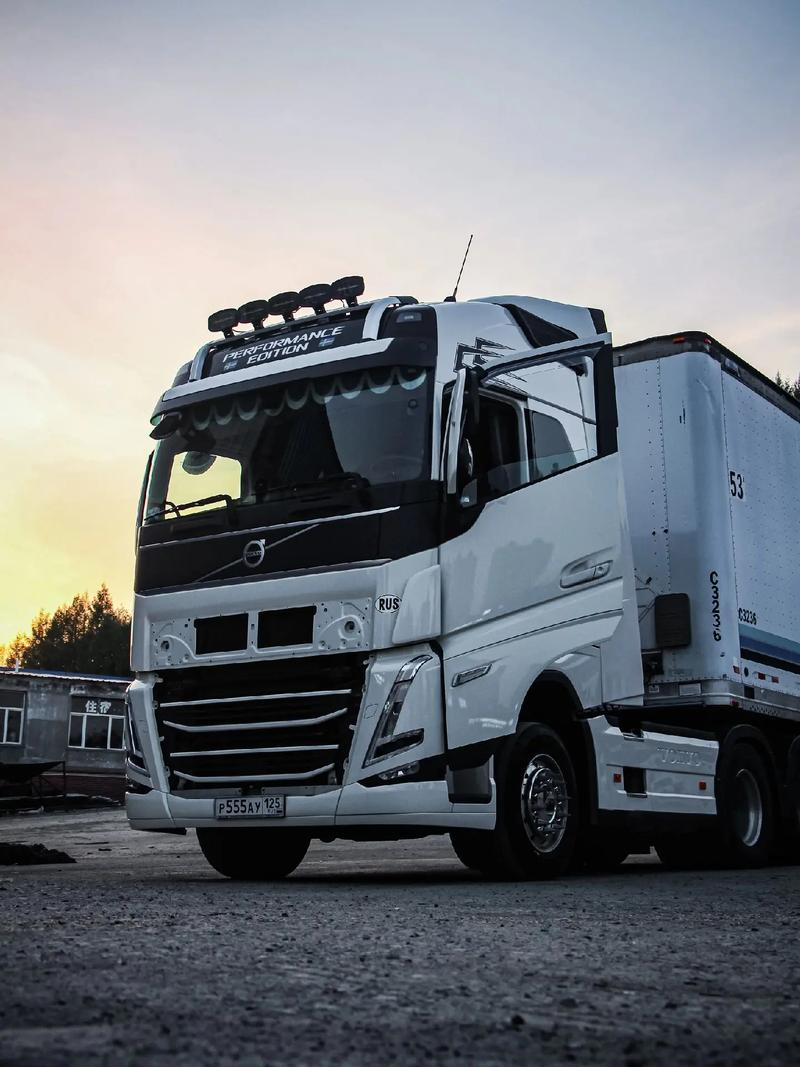卡车: (110, 273, 800, 876)
